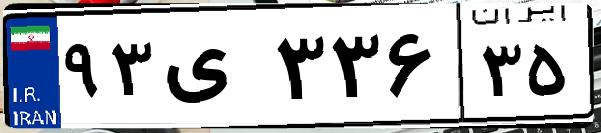3: (270, 28, 330, 110), (330, 28, 385, 110), (475, 38, 525, 113), (110, 28, 158, 98)
5: (525, 38, 570, 115)
6: (385, 28, 445, 110)
9: (57, 26, 110, 100)
ی: (158, 20, 270, 120)
